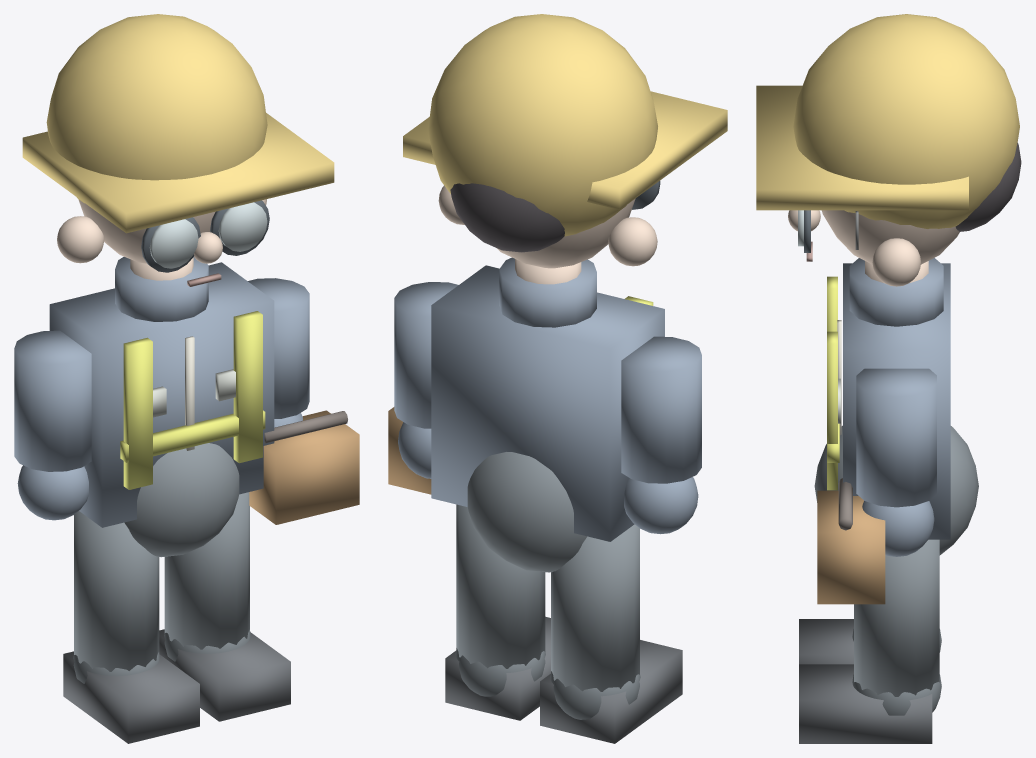
File: mercy_person_12.glb
3 views of the same model, side by side, from view 1: azimuth 30°, elevation 25°; view 2: azimuth 150°, elevation 25°; view 3: azimuth 270°, elevation 25° (orthographic). The views are drawn at different scales.
Parts seen in each view (by area): view 1: SkinClothing_10, SkinClothing_0, Arm_Left, Leg_Left, SkinClothing_5, Leg_Right, SkinClothing_1, SkinClothing_12, Boot_Left, Boot_Right, Arm_Right, SkinClothing_2 (+5 smaller); view 2: SkinClothing_0, SkinClothing_10, Arm_Left, Leg_Left, Leg_Right, SkinClothing_1, Arm_Right, Boot_Left, SkinClothing_2, SkinClothing_9, Boot_Right, SkinClothing_12; view 3: SkinClothing_10, SkinClothing_0, Arm_Right, Leg_Right, Boot_Right, SkinClothing_12, SkinClothing_2, SkinClothing_1, Boot_Left, SkinClothing_5, SkinClothing_9, SkinClothing_13.
Part boxes in pixels (x1,y1,x2,y2): SkinClothing_10: (22,14,334,233); SkinClothing_0: (49,257,274,527); Arm_Left: (14,330,91,520); Leg_Left: (73,511,159,683); SkinClothing_5: (120,311,265,489); Leg_Right: (164,492,250,661); SkinClothing_1: (124,443,239,557); SkinClothing_12: (249,410,359,524); Boot_Left: (63,651,199,743); Boot_Right: (159,629,290,721); Arm_Right: (248,278,309,427); SkinClothing_2: (57,199,266,280); SkinClothing_0: (431,257,664,541); SkinClothing_10: (403,14,727,236); Arm_Left: (621,336,701,534); Leg_Left: (550,524,640,719); Leg_Right: (455,504,545,696); SkinClothing_1: (467,452,586,572); Arm_Right: (394,282,458,478); Boot_Left: (540,640,682,743); SkinClothing_2: (438,185,657,284); SkinClothing_9: (450,183,564,252); Boot_Right: (445,616,550,720); SkinClothing_12: (388,407,431,494); SkinClothing_10: (756,14,1019,228); SkinClothing_0: (843,258,950,539); Arm_Right: (856,368,936,556); Leg_Right: (852,539,941,715); Boot_Right: (799,664,932,743); SkinClothing_12: (817,490,885,604); SkinClothing_2: (788,210,959,286); SkinClothing_1: (814,425,978,555); Boot_Left: (799,619,853,664); SkinClothing_5: (827,276,839,490); SkinClothing_9: (955,143,1021,231); SkinClothing_13: (838,478,852,530).
Size of the model in its own units: 1.19 by 2.51 by 0.8847.
